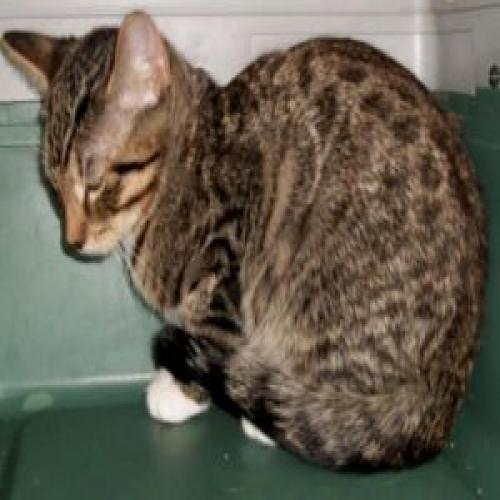cat-face: (1, 1, 185, 270)
